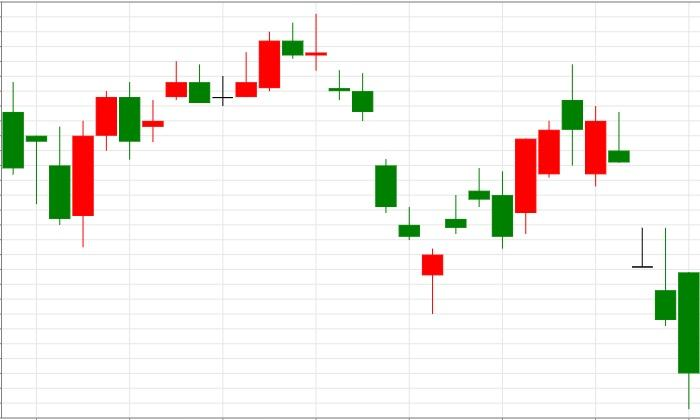bearish_engulfing_fall: (49, 82, 141, 247)
hammer_rise: (281, 14, 444, 315)
